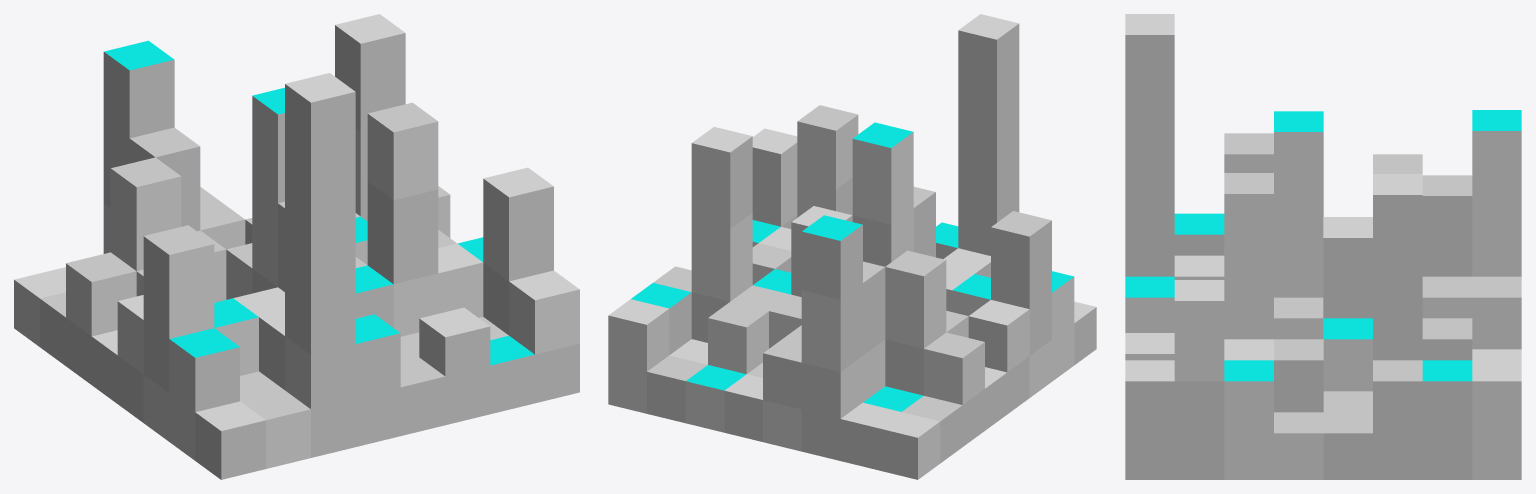
The model's file is BuildingS1.fbx.
3 views of the same model, side by side, from view 1: azimuth 30°, elevation 25°; view 2: azimuth 150°, elevation 25°; view 3: azimuth 270°, elevation 25° (orthographic). The views are drawn at different scales.
Parts seen in each view (by area): view 1: S1; view 2: S1; view 3: S1.
Boxes of the visible parts, <box> form: S1: <box>14,14,579,479</box>; S1: <box>608,14,1096,479</box>; S1: <box>1125,14,1521,479</box>.
Size of the model in its own units: 597 by 566 by 597.
